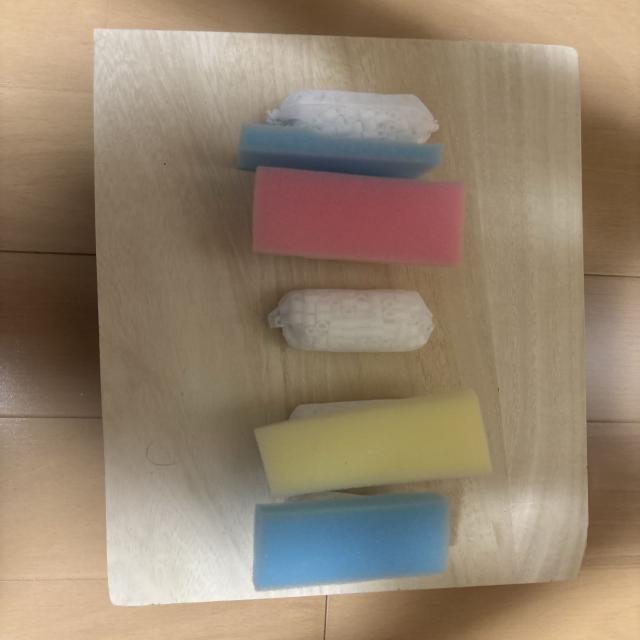NG: (238, 90, 443, 179), (268, 289, 433, 352)
ika: (253, 493, 449, 590)
tai: (252, 166, 465, 266)
tamago: (255, 391, 492, 498)
